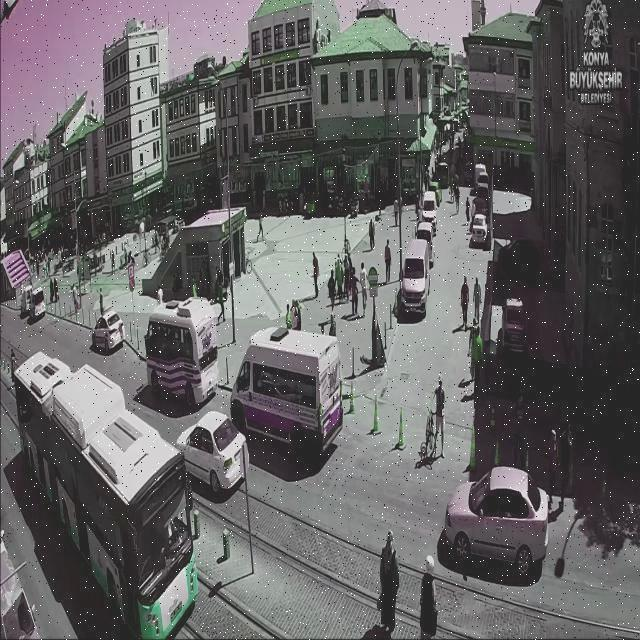Bus: (13, 354, 199, 640)
Car: (230, 324, 340, 456), (442, 460, 556, 570), (144, 294, 220, 407), (178, 410, 248, 492), (399, 241, 430, 315), (92, 307, 125, 352), (501, 299, 526, 353), (470, 213, 489, 245), (28, 289, 46, 322), (421, 191, 438, 224), (416, 220, 434, 250), (471, 196, 490, 223), (474, 164, 488, 190), (434, 160, 449, 183), (474, 184, 489, 206), (22, 284, 33, 312), (428, 182, 442, 204), (437, 161, 448, 169)
